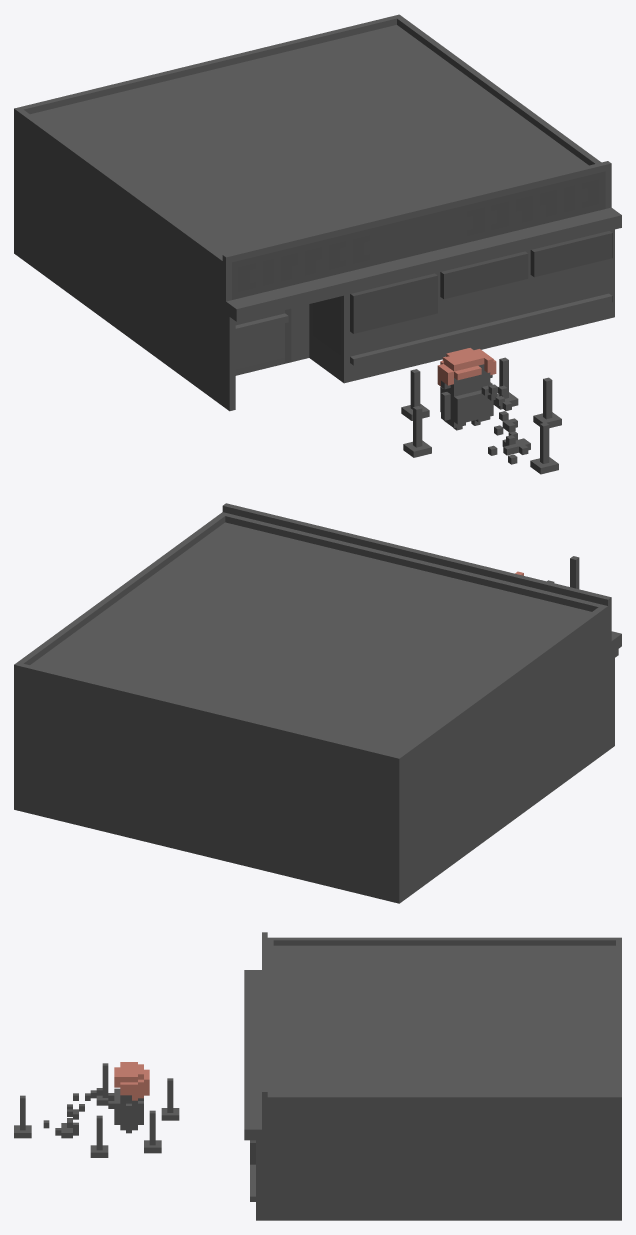
The model's file is scene_headache.obj.
3 views of the same model, one above another, from view 1: azimuth 30°, elevation 25°; view 2: azimuth 150°, elevation 25°; view 3: azimuth 270°, elevation 25° (orthographic). The views are drawn at different scales.
Size of the model in its own units: 64 by 24 by 103.
